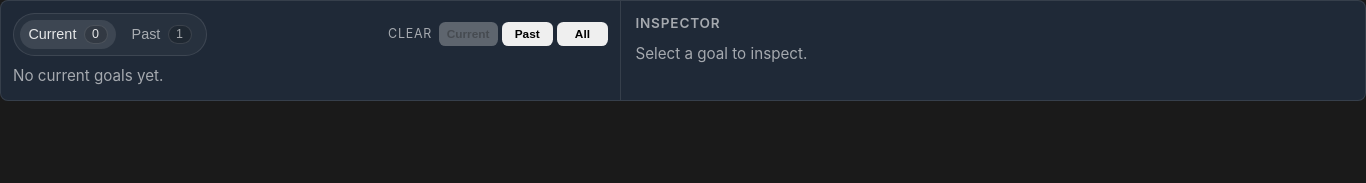
Test: GoalsPanel › normalizes done/completed to ready and shows progress when parent has no children
Step 1. Click the tab with test id "goals-tab-filter-past" → {"x": 162, "y": 34}, box 123,20 -> 200,49
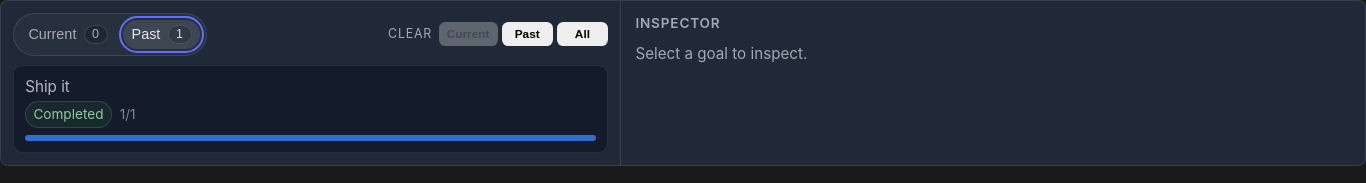
Expected: the text "Ship it" is shown, 25,77 -> 70,96
Expected: the text "Completed" is shown, 25,101 -> 112,128
Expected: the text "1/1" is shown, 120,104 -> 136,125
